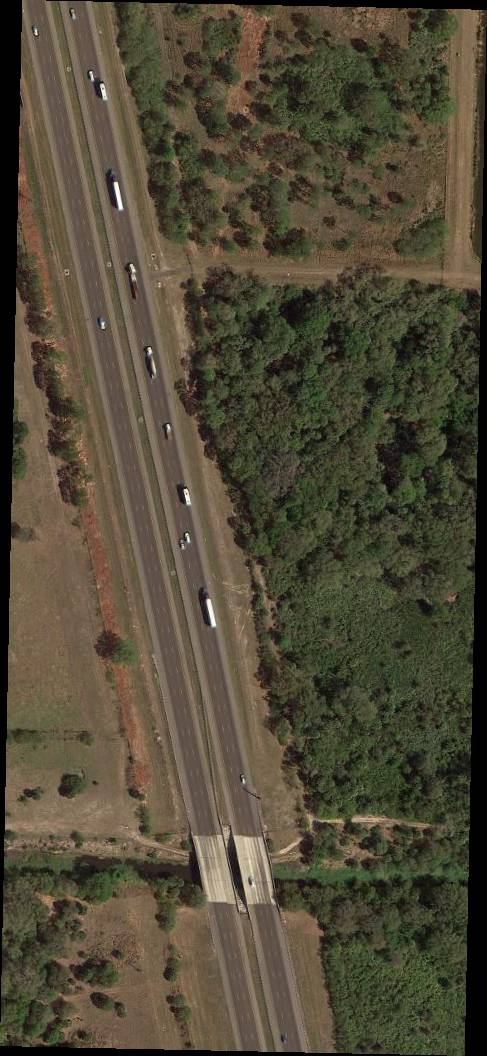bridge: (192, 835, 239, 905), (234, 836, 280, 906)
large vehicle: (109, 169, 126, 213), (201, 587, 217, 628), (146, 347, 159, 381), (96, 79, 110, 102), (162, 422, 174, 443), (180, 487, 191, 506)
small vehicle: (67, 7, 80, 23), (97, 317, 108, 332), (30, 25, 41, 39), (181, 531, 193, 543), (88, 69, 97, 85), (177, 539, 188, 550), (239, 775, 248, 786)
